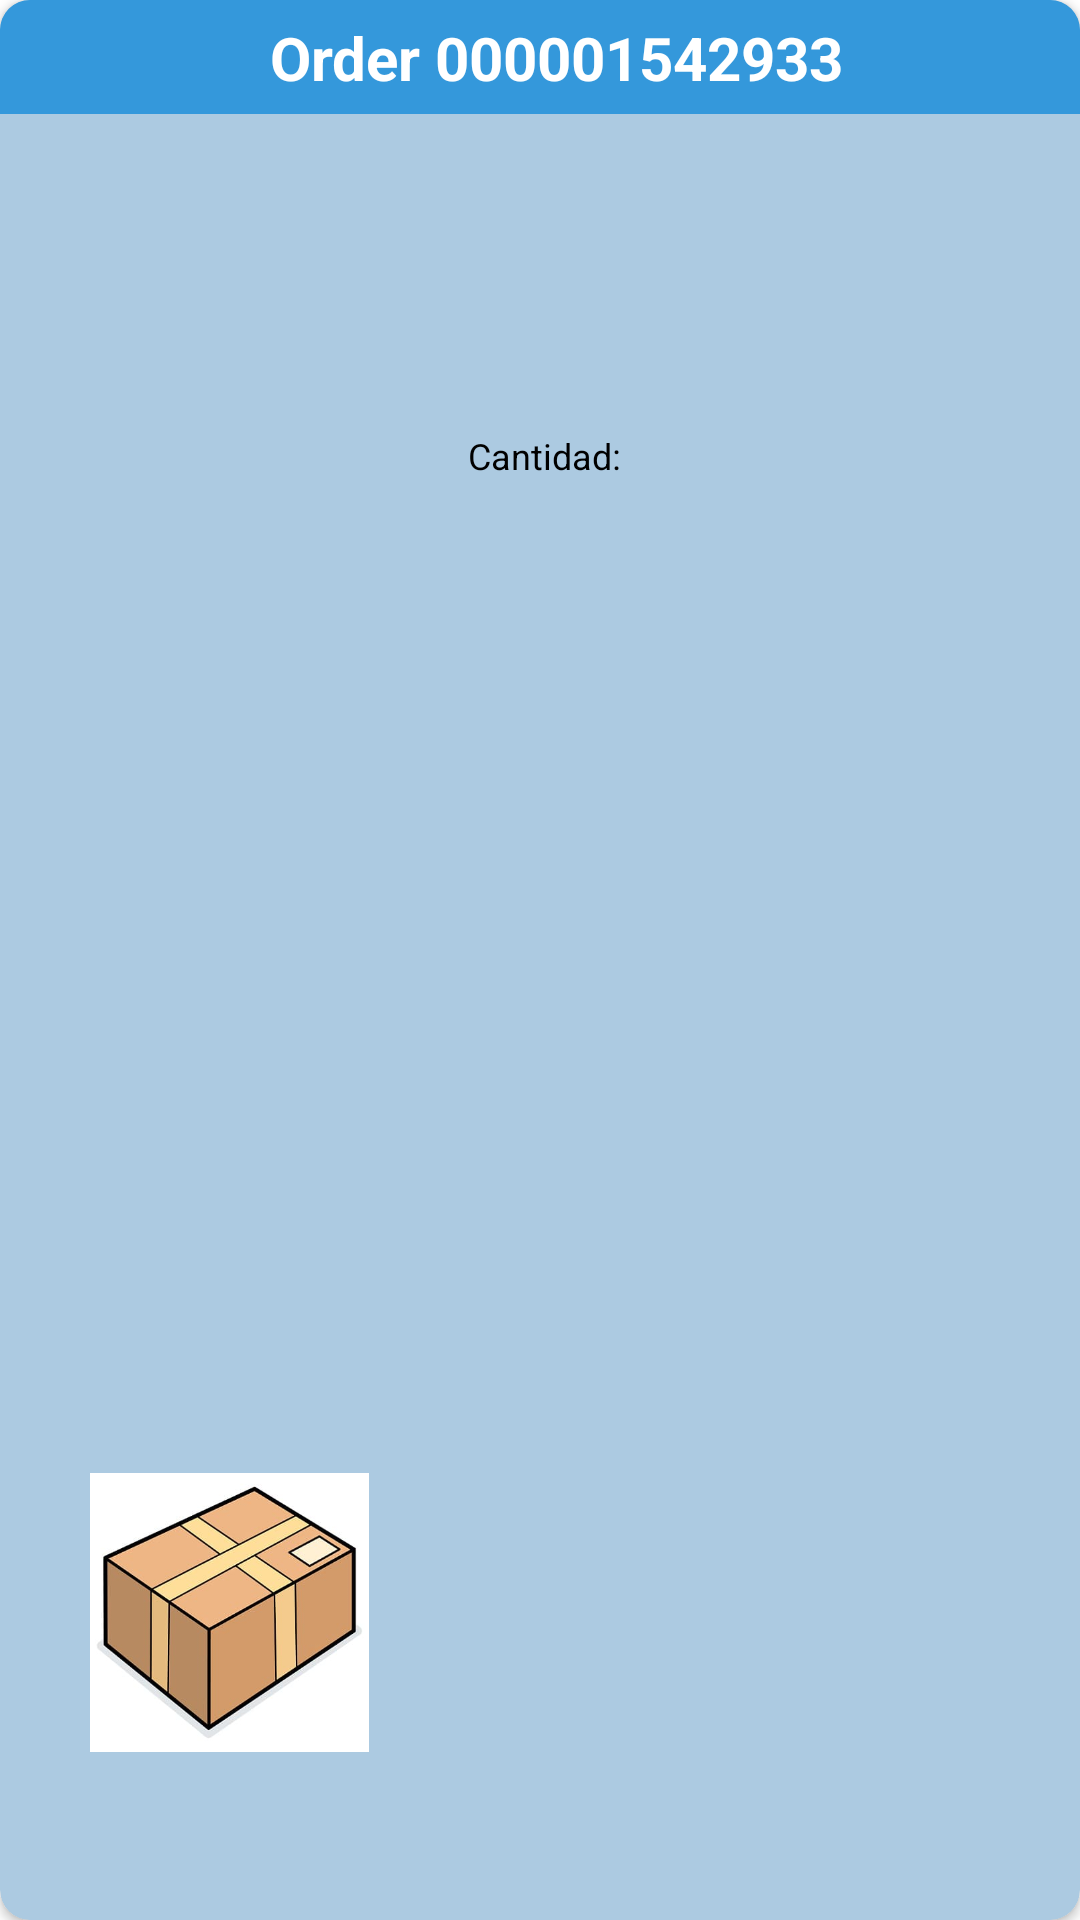

Icons on this 1080w x 1920h Android screen, each with the point to tap as (x,y):
cajaaaa: (229,1612)
